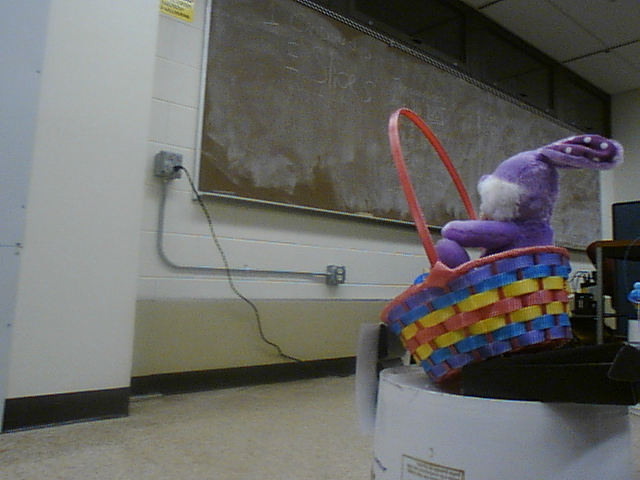bunny: (378, 100, 627, 375)
